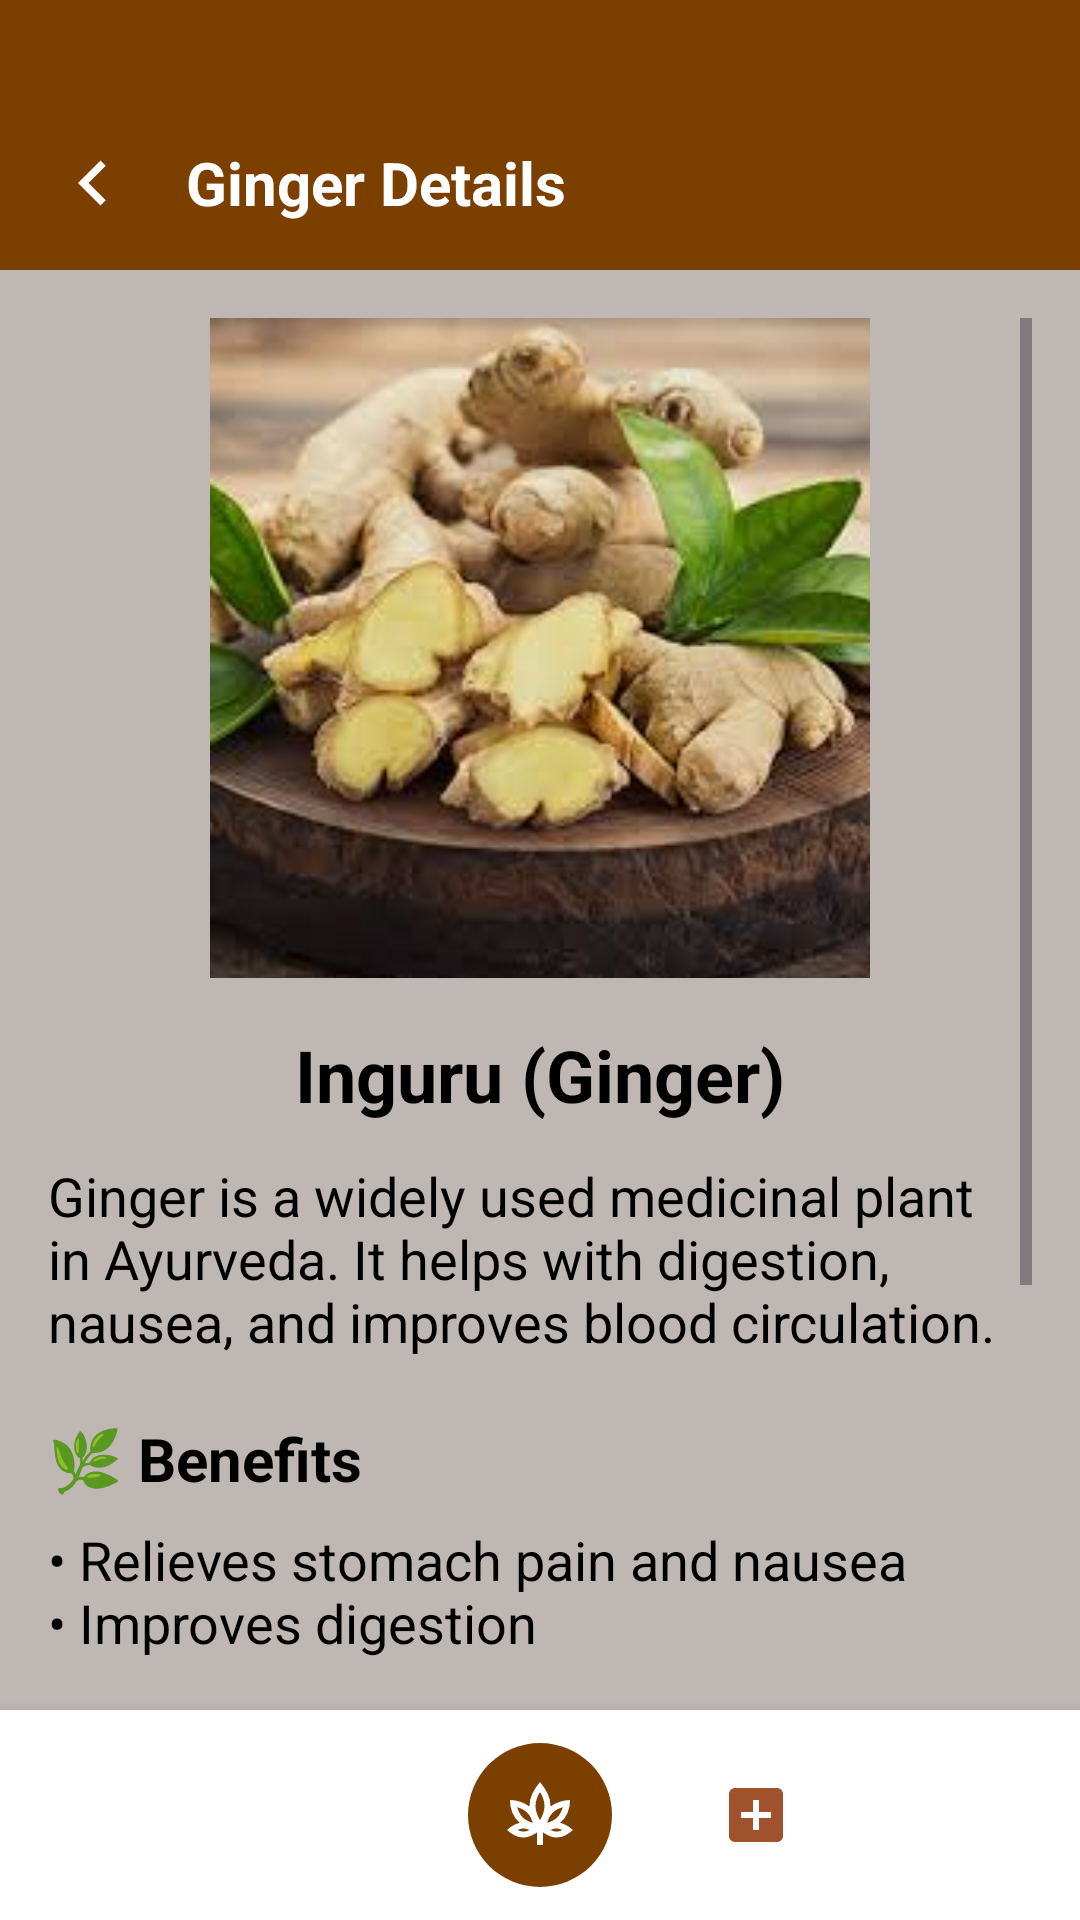

Screen size 1080*1920. Icon name, then its center in pixels as [x,y]:
Back: [92,183]
doctor: [756,1815]
plant: [540,1815]
